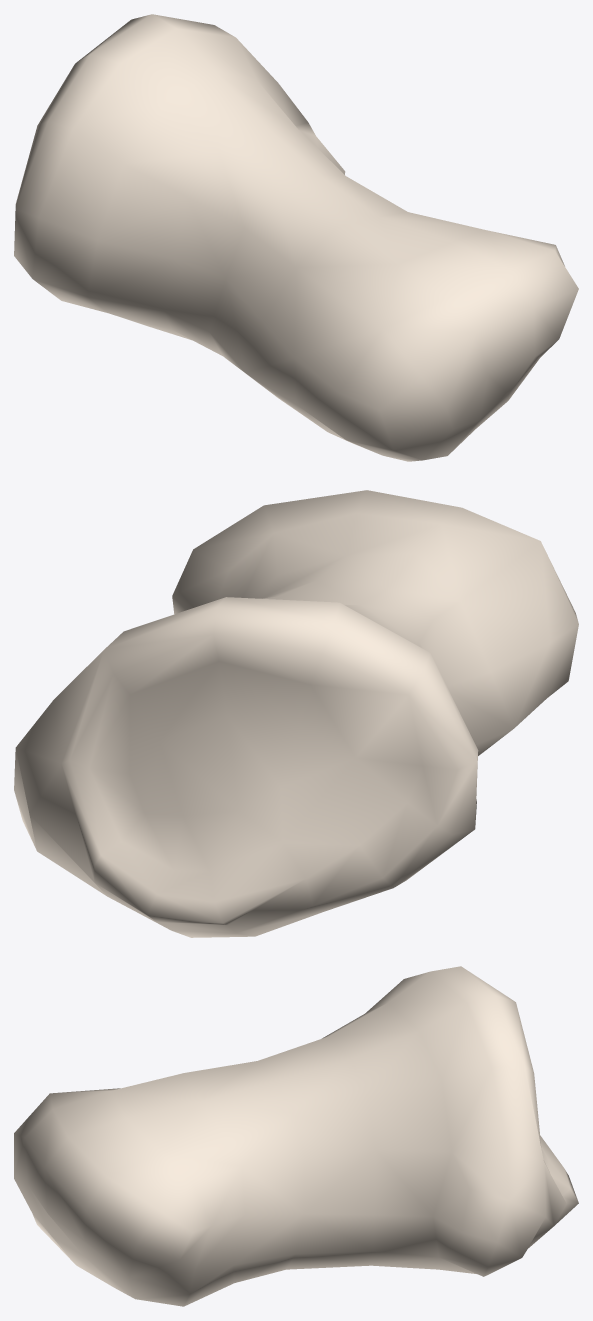
File: left_toe_2_distal.glb
3 views of the same model, one above another, from view 1: azimuth 30°, elevation 25°; view 2: azimuth 150°, elevation 25°; view 3: azimuth 270°, elevation 25° (orthographic). The views are drawn at different scales.
Parts seen in each view (by area): view 1: Distal phalanx of second finger of foot.r; view 2: Distal phalanx of second finger of foot.r; view 3: Distal phalanx of second finger of foot.r.
Part boxes in pixels (bbox=[...]): Distal phalanx of second finger of foot.r: bbox=[14, 14, 578, 461]; Distal phalanx of second finger of foot.r: bbox=[14, 490, 578, 937]; Distal phalanx of second finger of foot.r: bbox=[14, 966, 578, 1306].
Size of the model in its own units: 0.00596 by 0.00434 by 0.00837.
